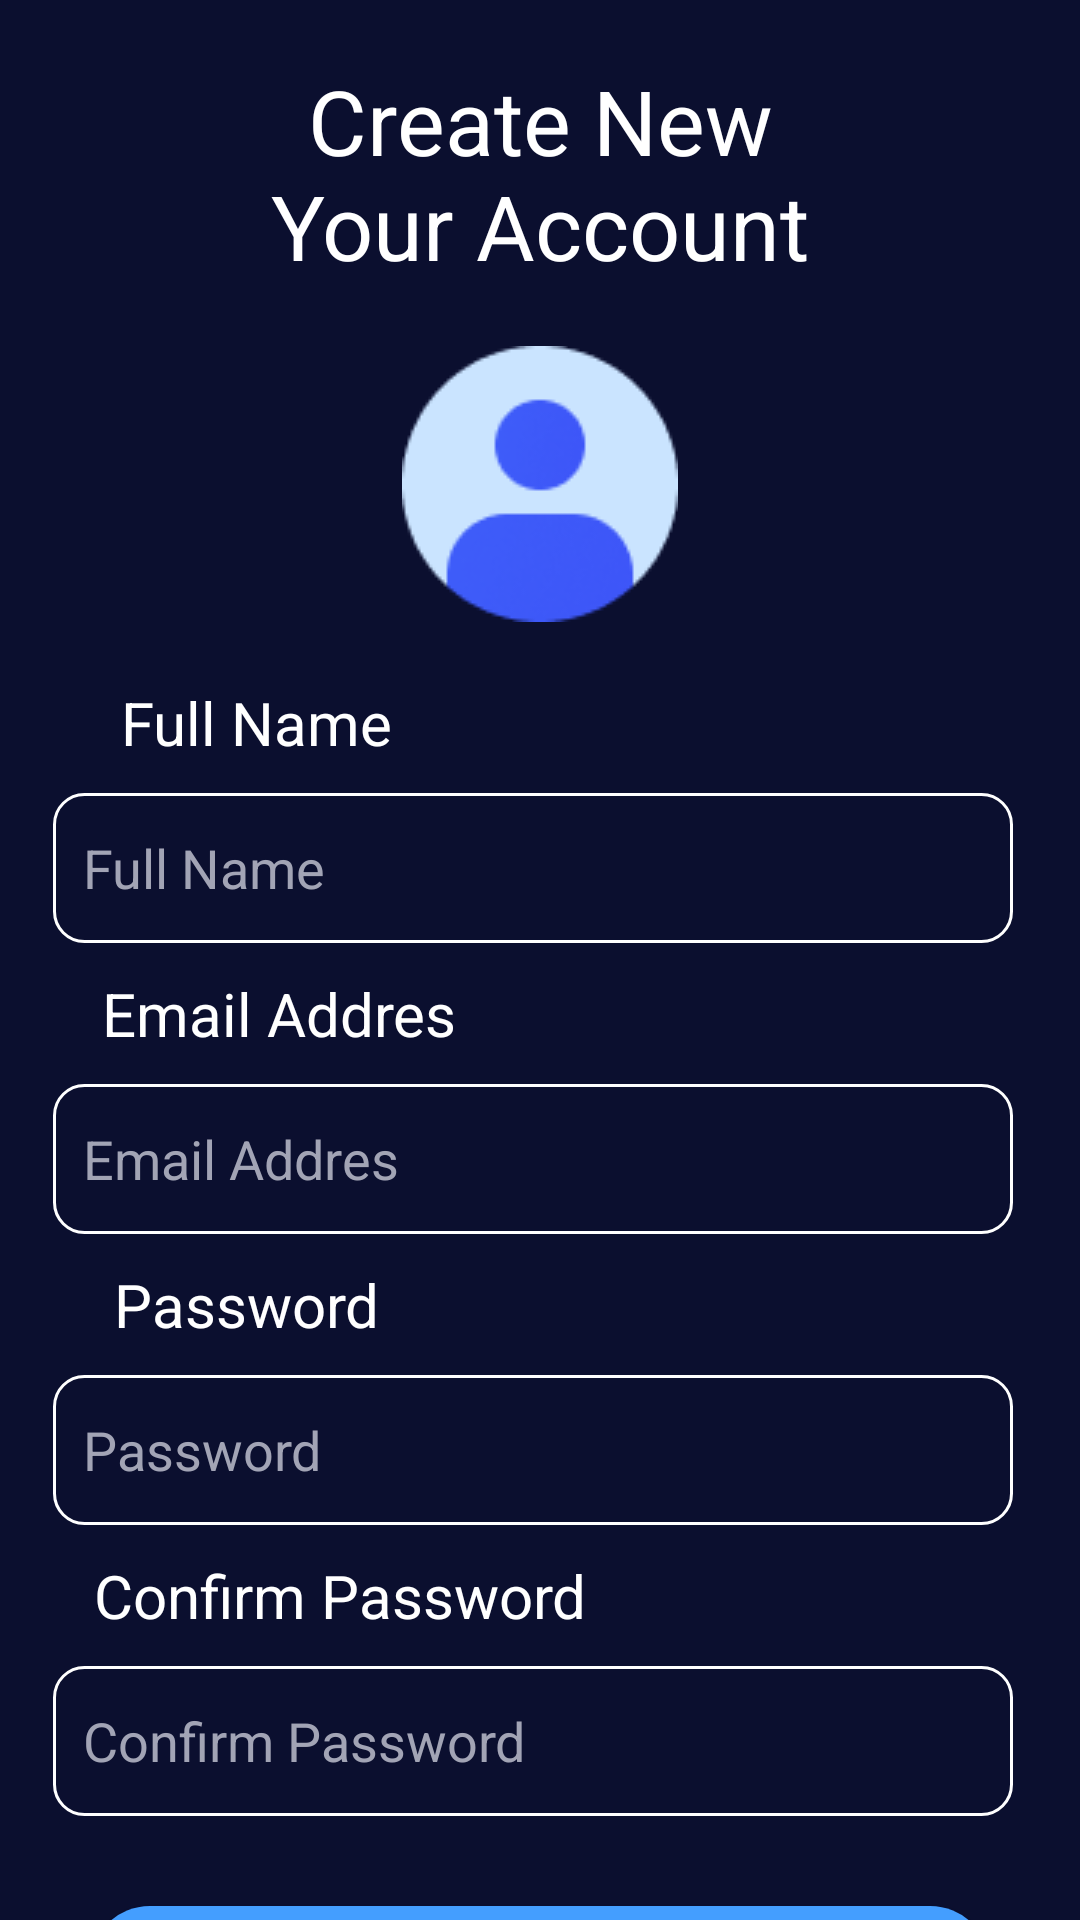

Where icons sit on this 1080px×1920px app screen, as (x1,y1,x2,y2):
photo profile: (402,346,678,622)
